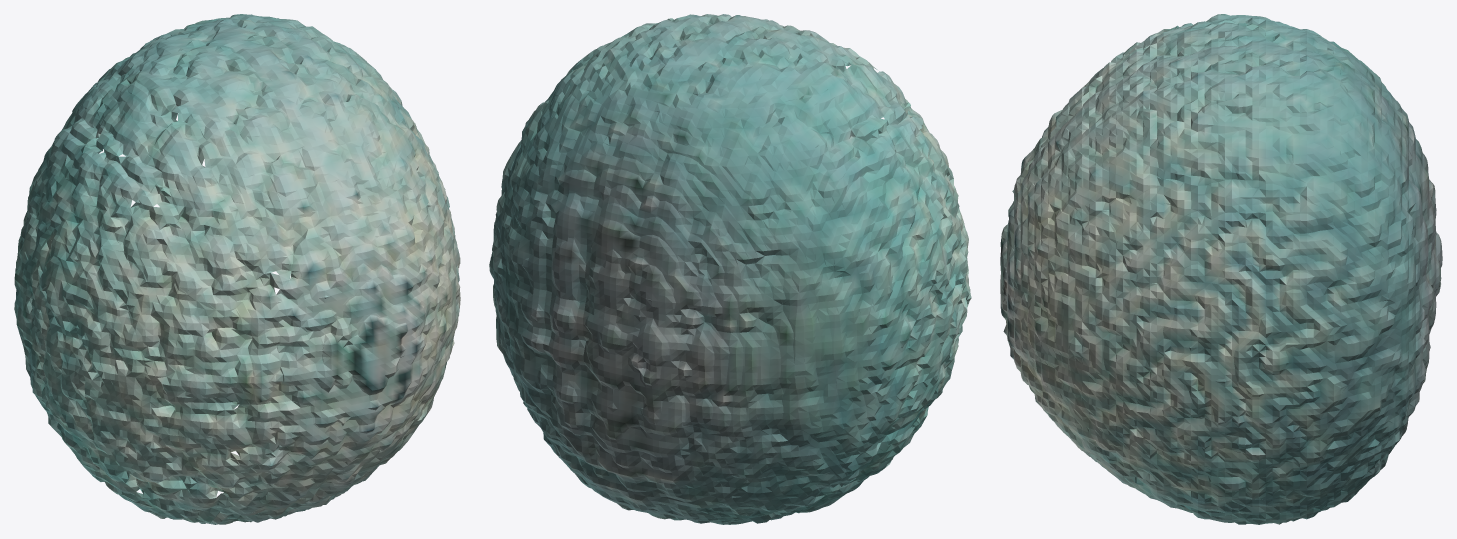
Rendered from coral-brain-triposr-01.glb.
The picture shows the model from 3 angles, left to right: view 1: azimuth 30°, elevation 25°; view 2: azimuth 150°, elevation 25°; view 3: azimuth 270°, elevation 25°; orthographic projection. The views are drawn at different scales.
Parts seen in each view (by area): view 1: world; view 2: world; view 3: world.
Part boxes in pixels (box(x1,y1,x2,y2)): world: box(14, 14, 460, 524); world: box(489, 14, 971, 524); world: box(1000, 14, 1442, 524).
Size of the model in its own units: 0.9123 by 1 by 0.8894.
